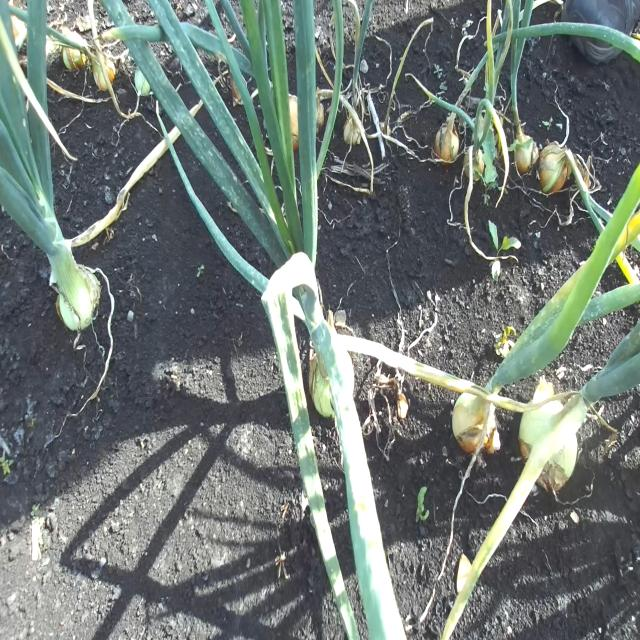onion: (518, 392, 588, 495), (452, 388, 500, 456), (288, 92, 325, 151), (308, 352, 336, 419), (538, 141, 570, 195), (509, 122, 539, 176), (434, 112, 460, 164), (61, 26, 90, 72)
